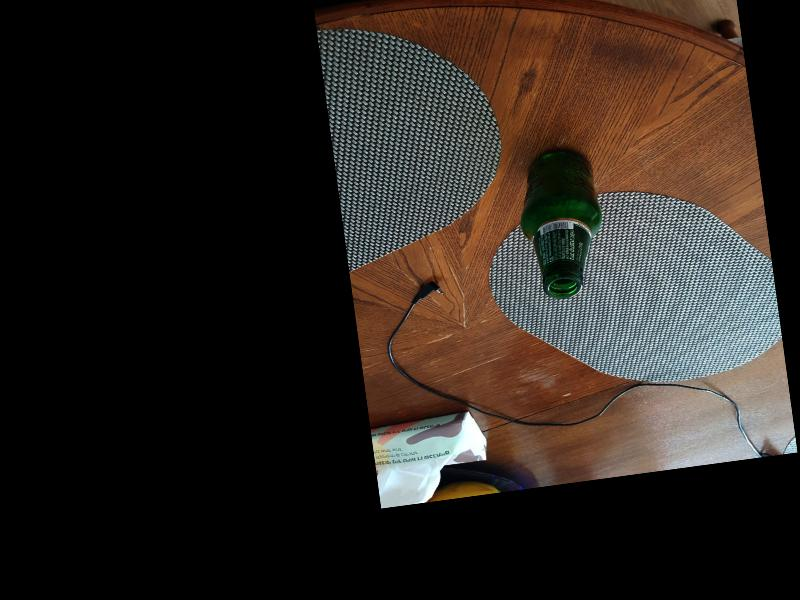Beer: (514, 144, 611, 303)
